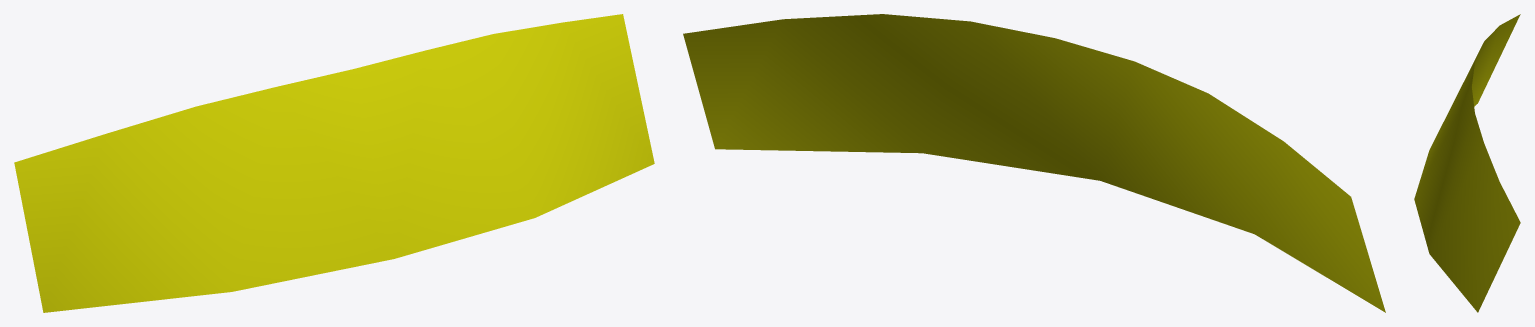
The model's file is Forehead1_16.glb.
3 renders of one model, left to right at view 1: azimuth 30°, elevation 25°; view 2: azimuth 150°, elevation 25°; view 3: azimuth 270°, elevation 25°, orthographic. The views are drawn at different scales.
Size of the model in its own units: 28.35 by 7.65 by 6.09.
